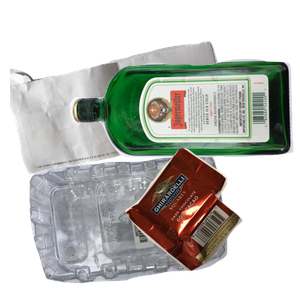glass: (67, 56, 300, 206)
paper: (10, 39, 236, 205)
plastic: (27, 152, 247, 300)
trash: (123, 145, 300, 300)
